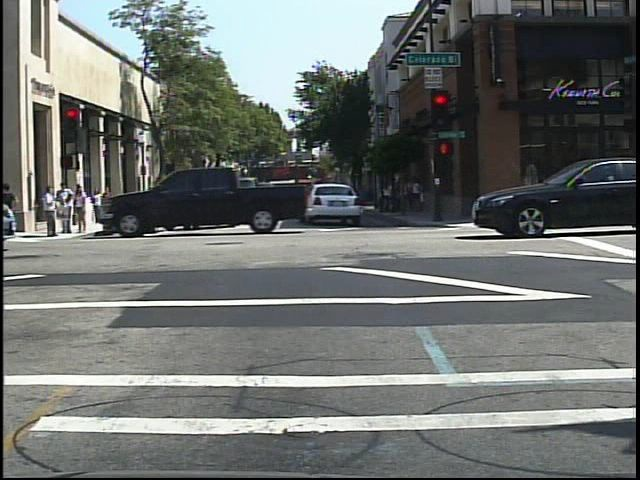person: (144, 180, 163, 220), (145, 180, 161, 215), (92, 186, 102, 227)
